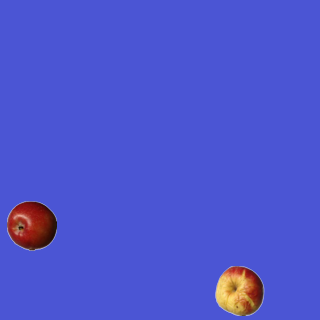Apple Braeburn: (6, 200, 56, 250)
Apple Red Yellow 1: (214, 265, 264, 315)
